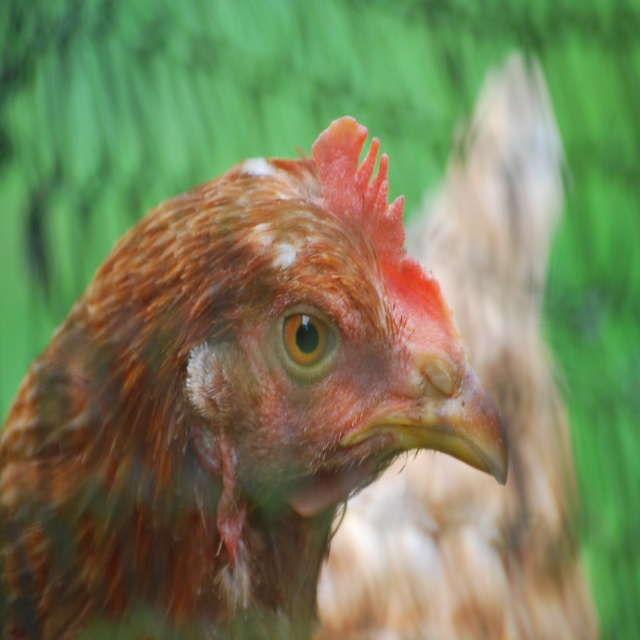Chicken: (0, 106, 509, 639)
